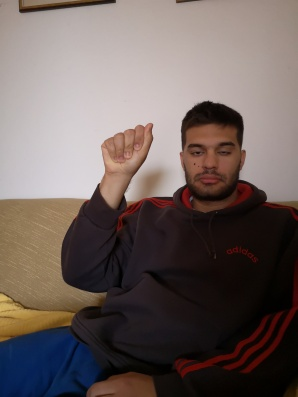A: (101, 122, 154, 175)
